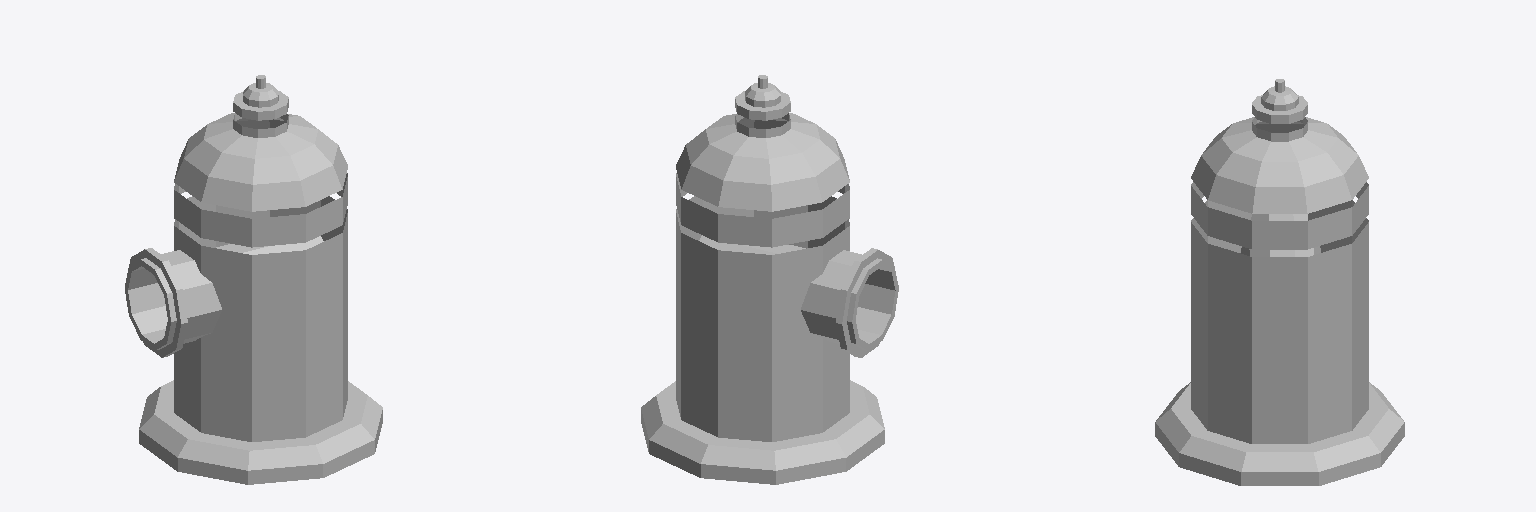
The model's file is Hydrant.obj.
3 views of the same model, side by side, from view 1: azimuth 30°, elevation 25°; view 2: azimuth 150°, elevation 25°; view 3: azimuth 270°, elevation 25° (orthographic).
Visible parts, largest first — view 1: Hydrant_Cylinder.005; view 2: Hydrant_Cylinder.005; view 3: Hydrant_Cylinder.005.
Boxes of the visible parts, x1=… form: Hydrant_Cylinder.005: x1=125, y1=75, x2=382, y2=484; Hydrant_Cylinder.005: x1=641, y1=75, x2=898, y2=484; Hydrant_Cylinder.005: x1=1155, y1=79, x2=1404, y2=485.
Bounding box in the file's own units: 2.79 × 4.39 × 2.79.